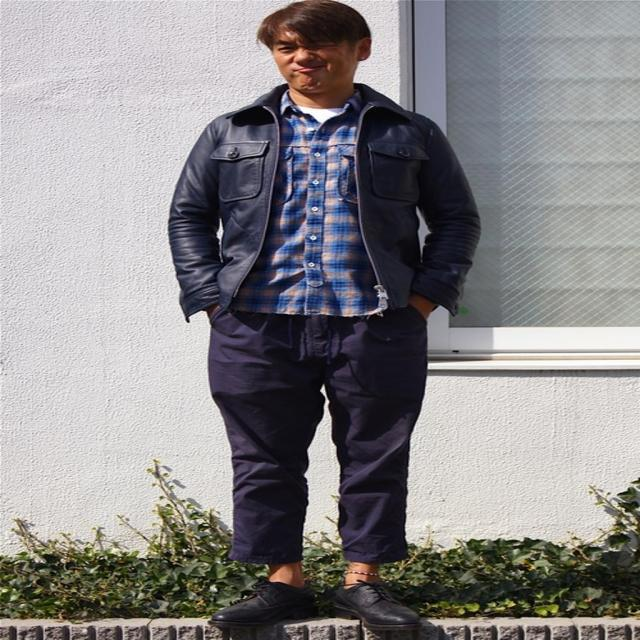nomask: (271, 13, 340, 84)
